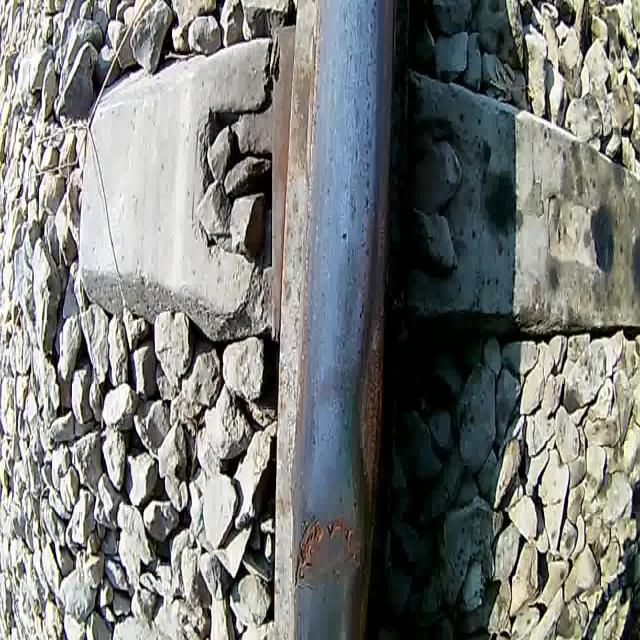Squats: (292, 506, 361, 606), (294, 506, 322, 586)
